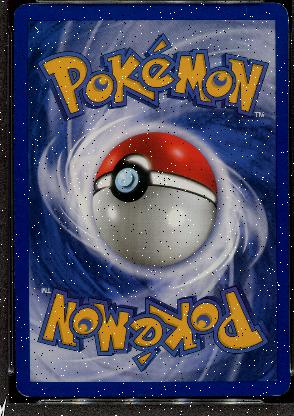Card: (9, 0, 291, 400)
Edge Wear: (13, 135, 15, 221), (14, 265, 16, 333), (12, 89, 14, 119)
Scratch: (15, 376, 33, 400), (269, 381, 290, 397), (241, 4, 247, 14)
